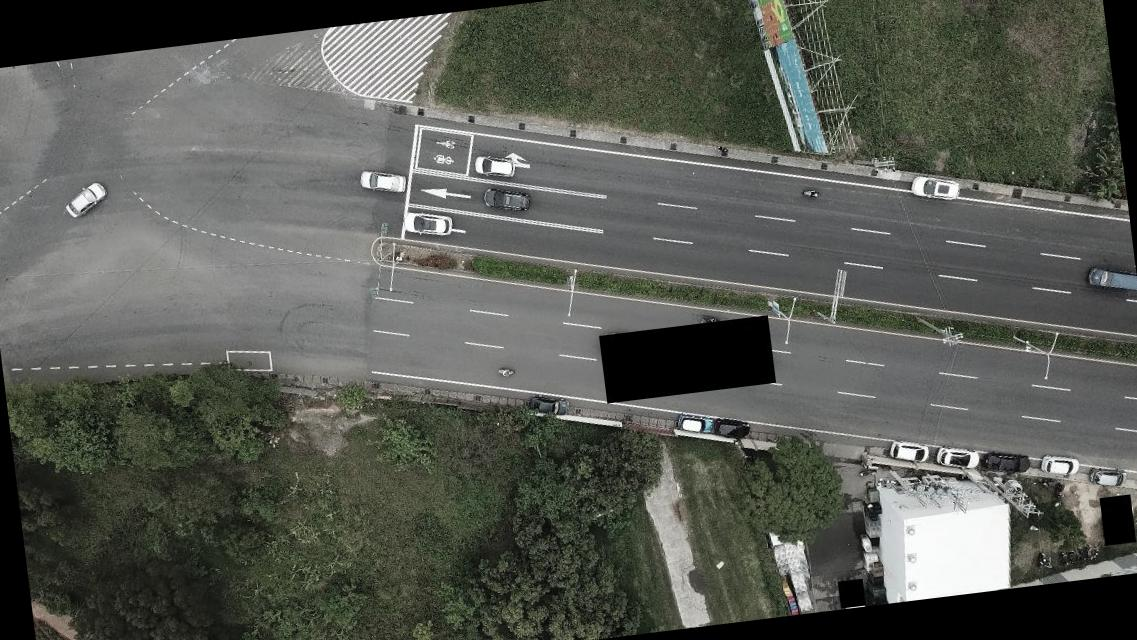vehicle: (61, 180, 109, 220), (908, 172, 962, 205), (1084, 262, 1136, 296), (480, 184, 532, 218), (981, 446, 1033, 479), (402, 207, 452, 240), (358, 166, 406, 197), (935, 442, 981, 473), (527, 391, 570, 422), (887, 438, 931, 468), (472, 152, 516, 182), (1038, 452, 1081, 480), (714, 414, 753, 444), (1086, 464, 1128, 491), (678, 410, 716, 436)
